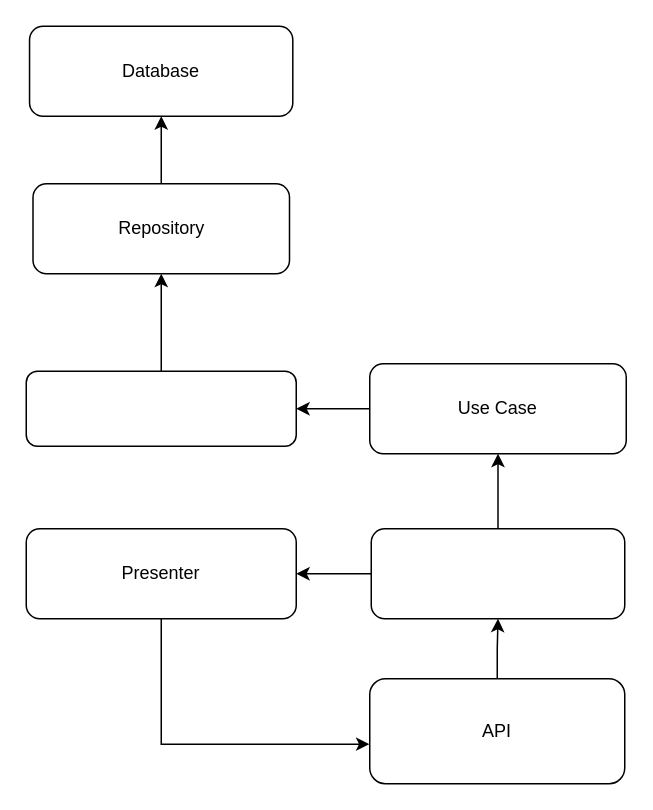
Some shapes in this 653 by 810 pixel diagram are drawn without their labels. The shapes that lost their labels are listed below. From the top down, each one's centre as x and y in pixels, then its label:
the point at 160,408: Gateway
the point at 497,573: Controller
